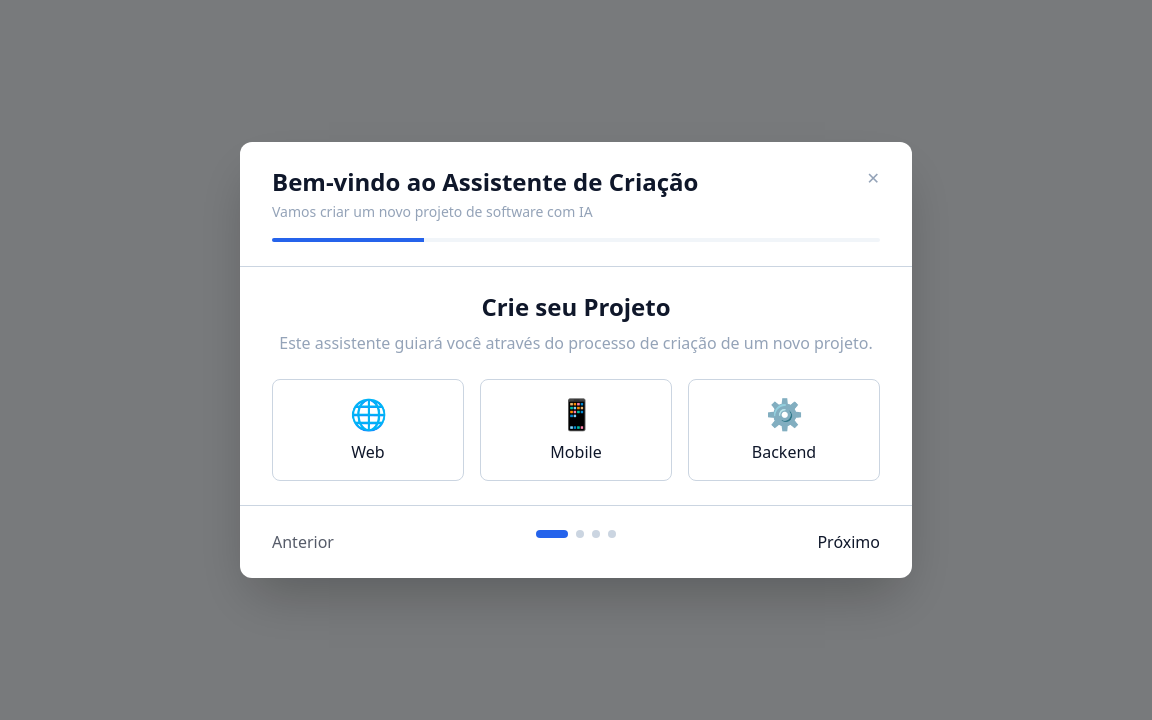
ProjectWizardRefactored › navigates to the details step when clicking Next
Click the button "Próximo": (849, 542) [817,530,880,554]
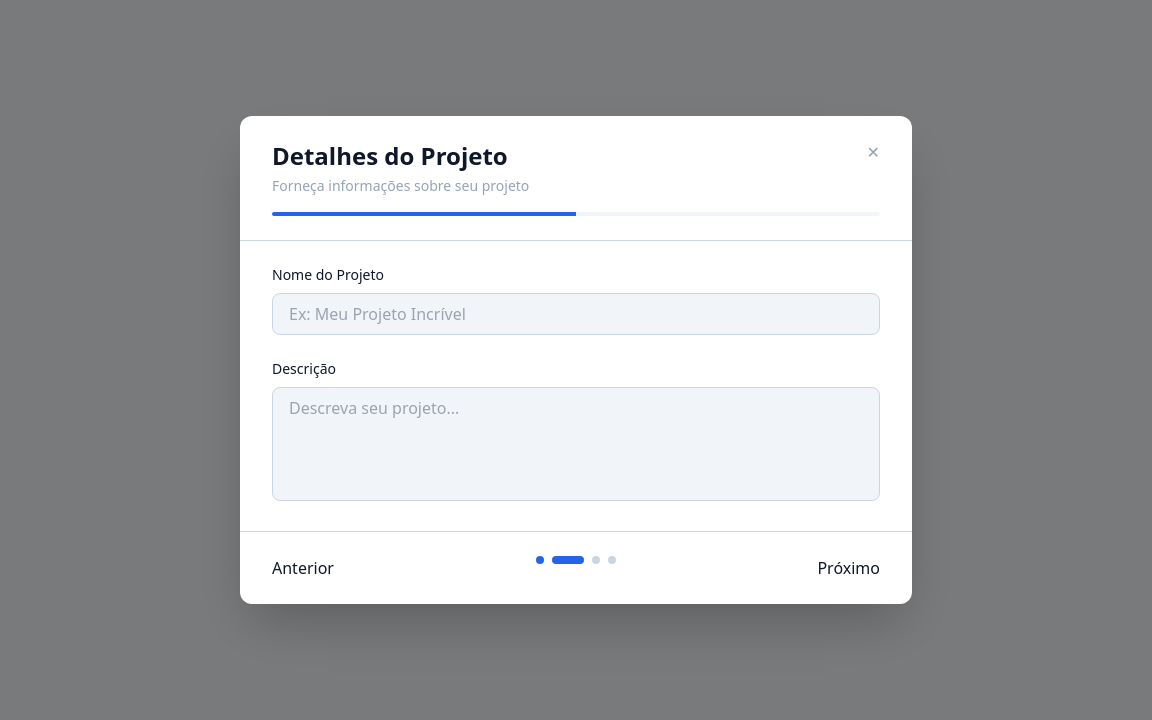
Expected: the heading "Detalhes do Projeto" is shown, [272,140,529,172]
Expected: the field with placeholder "Ex: Meu Projeto Incrível" is shown, [272,293,880,335]
